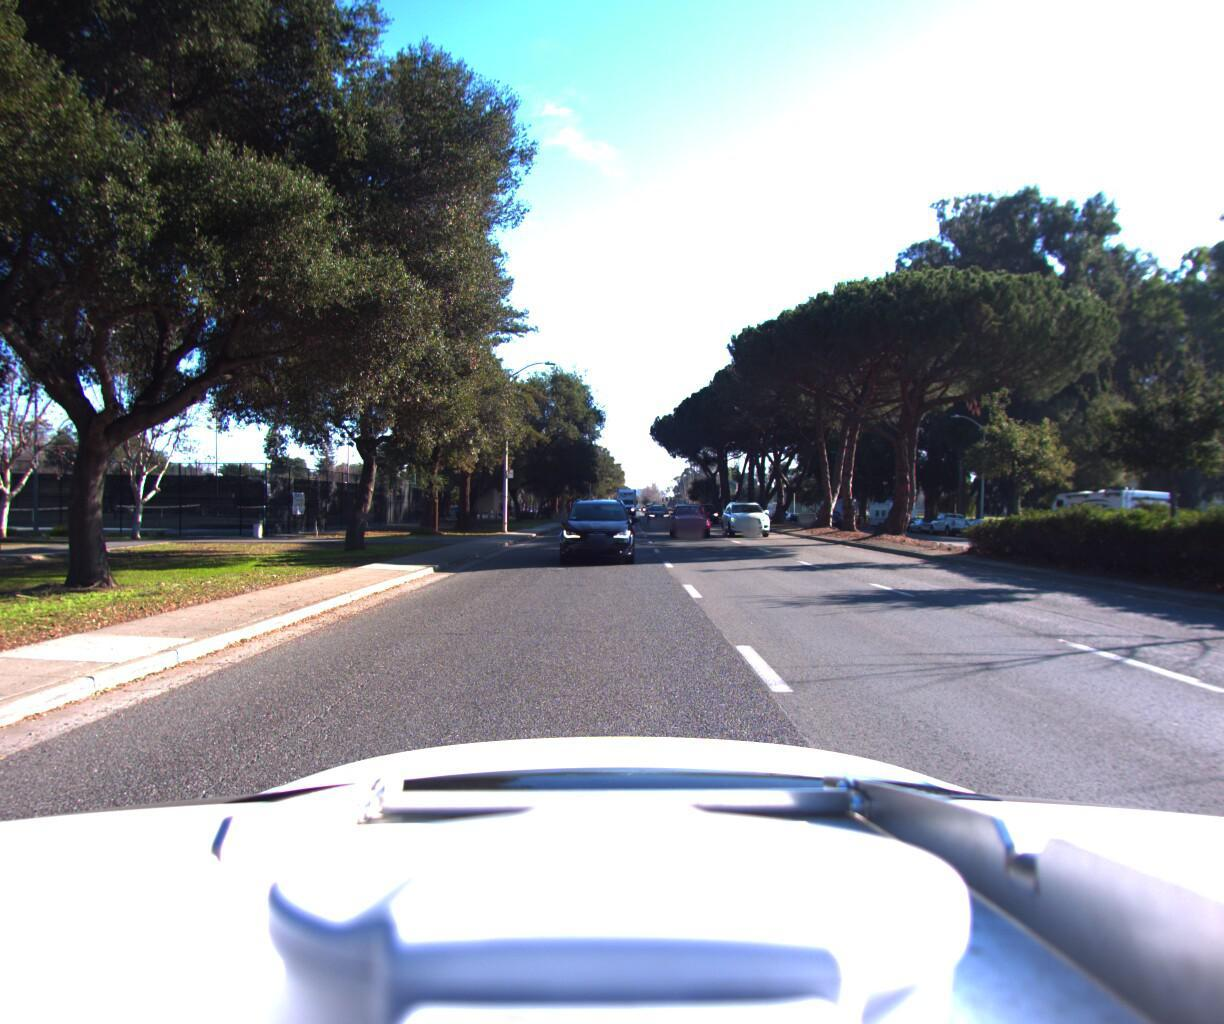car: (555, 495, 639, 575), (716, 500, 772, 543), (668, 506, 711, 544), (924, 516, 979, 544), (903, 522, 942, 541), (813, 516, 843, 536), (646, 505, 670, 528)
other_vehicle: (1038, 485, 1181, 560), (863, 504, 918, 537)
